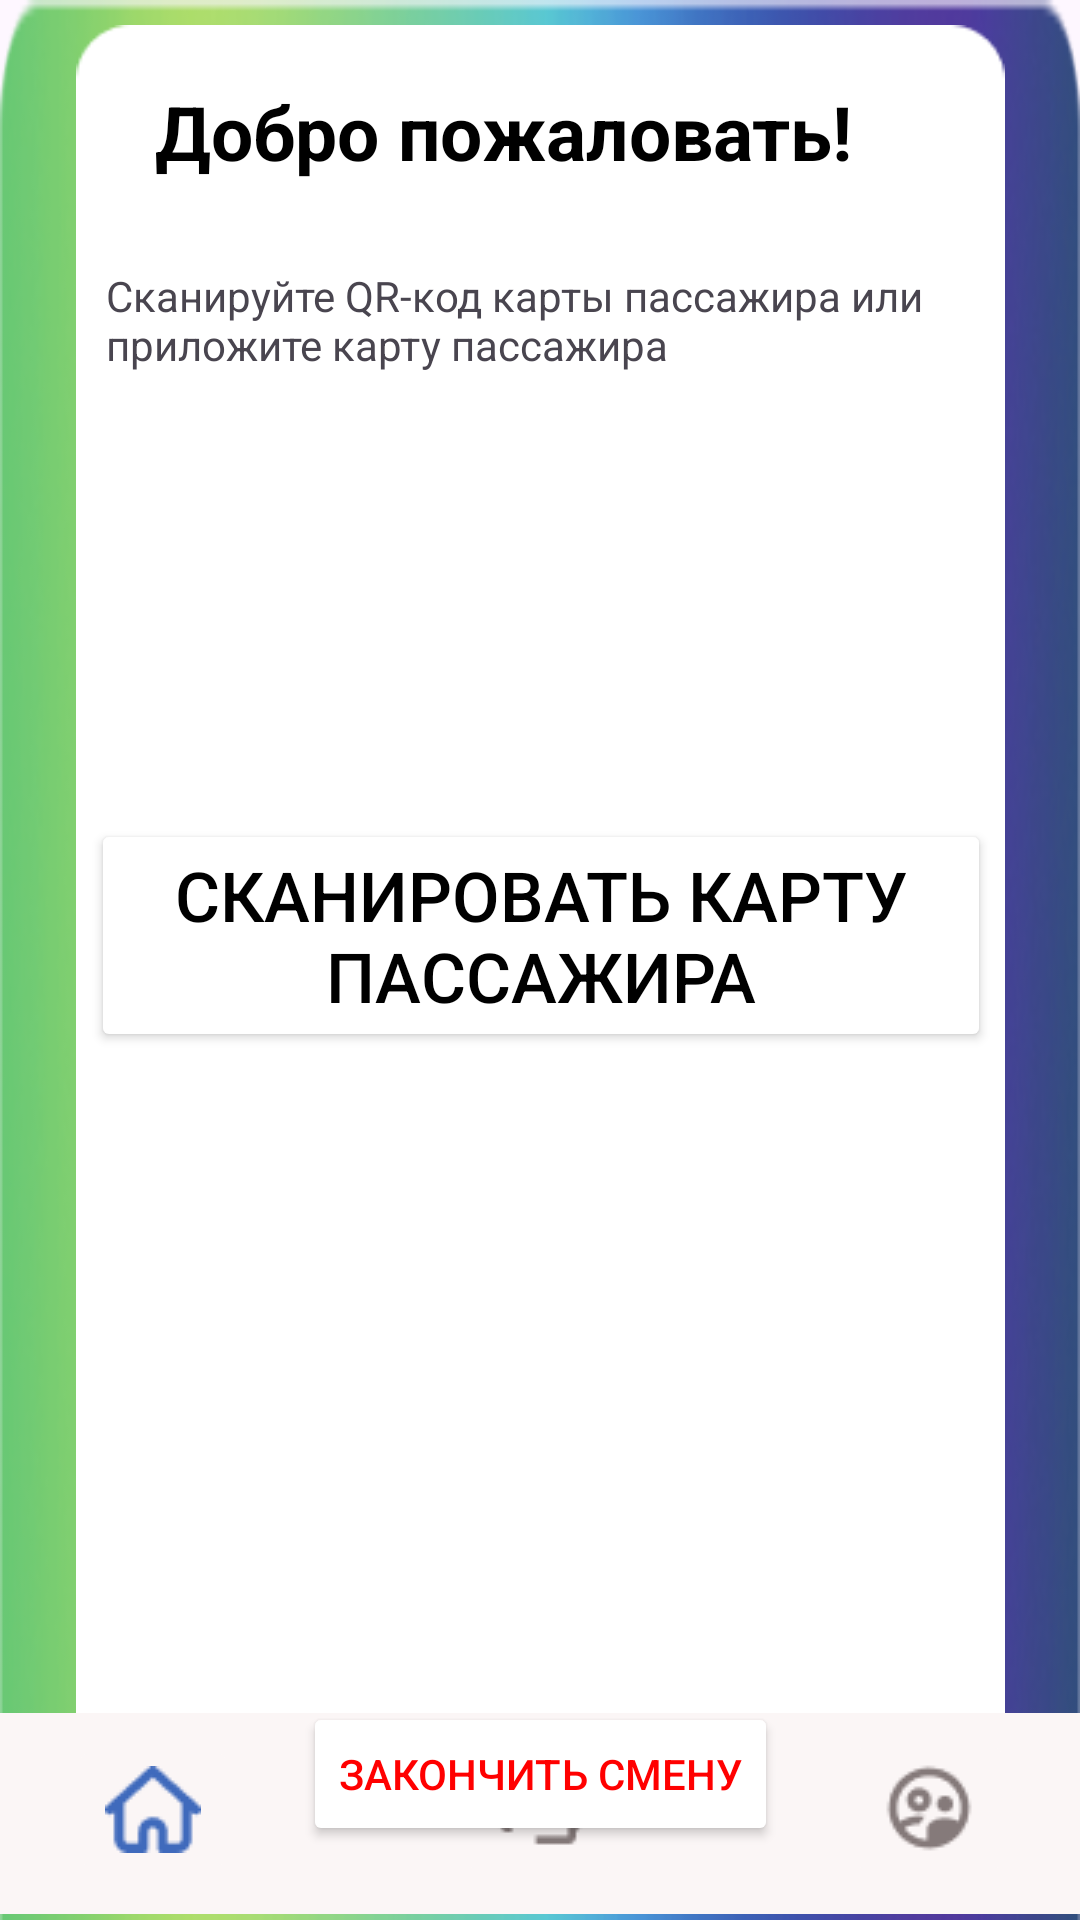

Where to tap for icons on this 1080px x 1920px app screen, as (x,y):
home: (153,1809)
supervised user circle: (929,1808)
